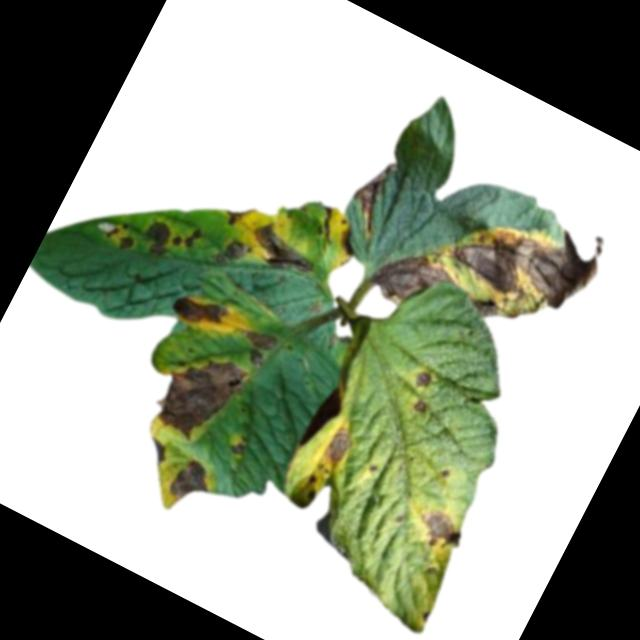Early_blight: (437, 178, 613, 336), (147, 337, 253, 452), (364, 241, 460, 326), (240, 216, 324, 289), (338, 152, 402, 237), (409, 499, 470, 558), (167, 281, 231, 336), (164, 451, 218, 509), (229, 318, 281, 371), (463, 289, 518, 331), (316, 418, 358, 471), (209, 229, 254, 272), (135, 215, 178, 259), (103, 216, 140, 254), (217, 197, 255, 233), (170, 218, 204, 254), (141, 433, 174, 469), (333, 225, 364, 256), (408, 364, 435, 392), (228, 429, 252, 457), (409, 393, 430, 415)
